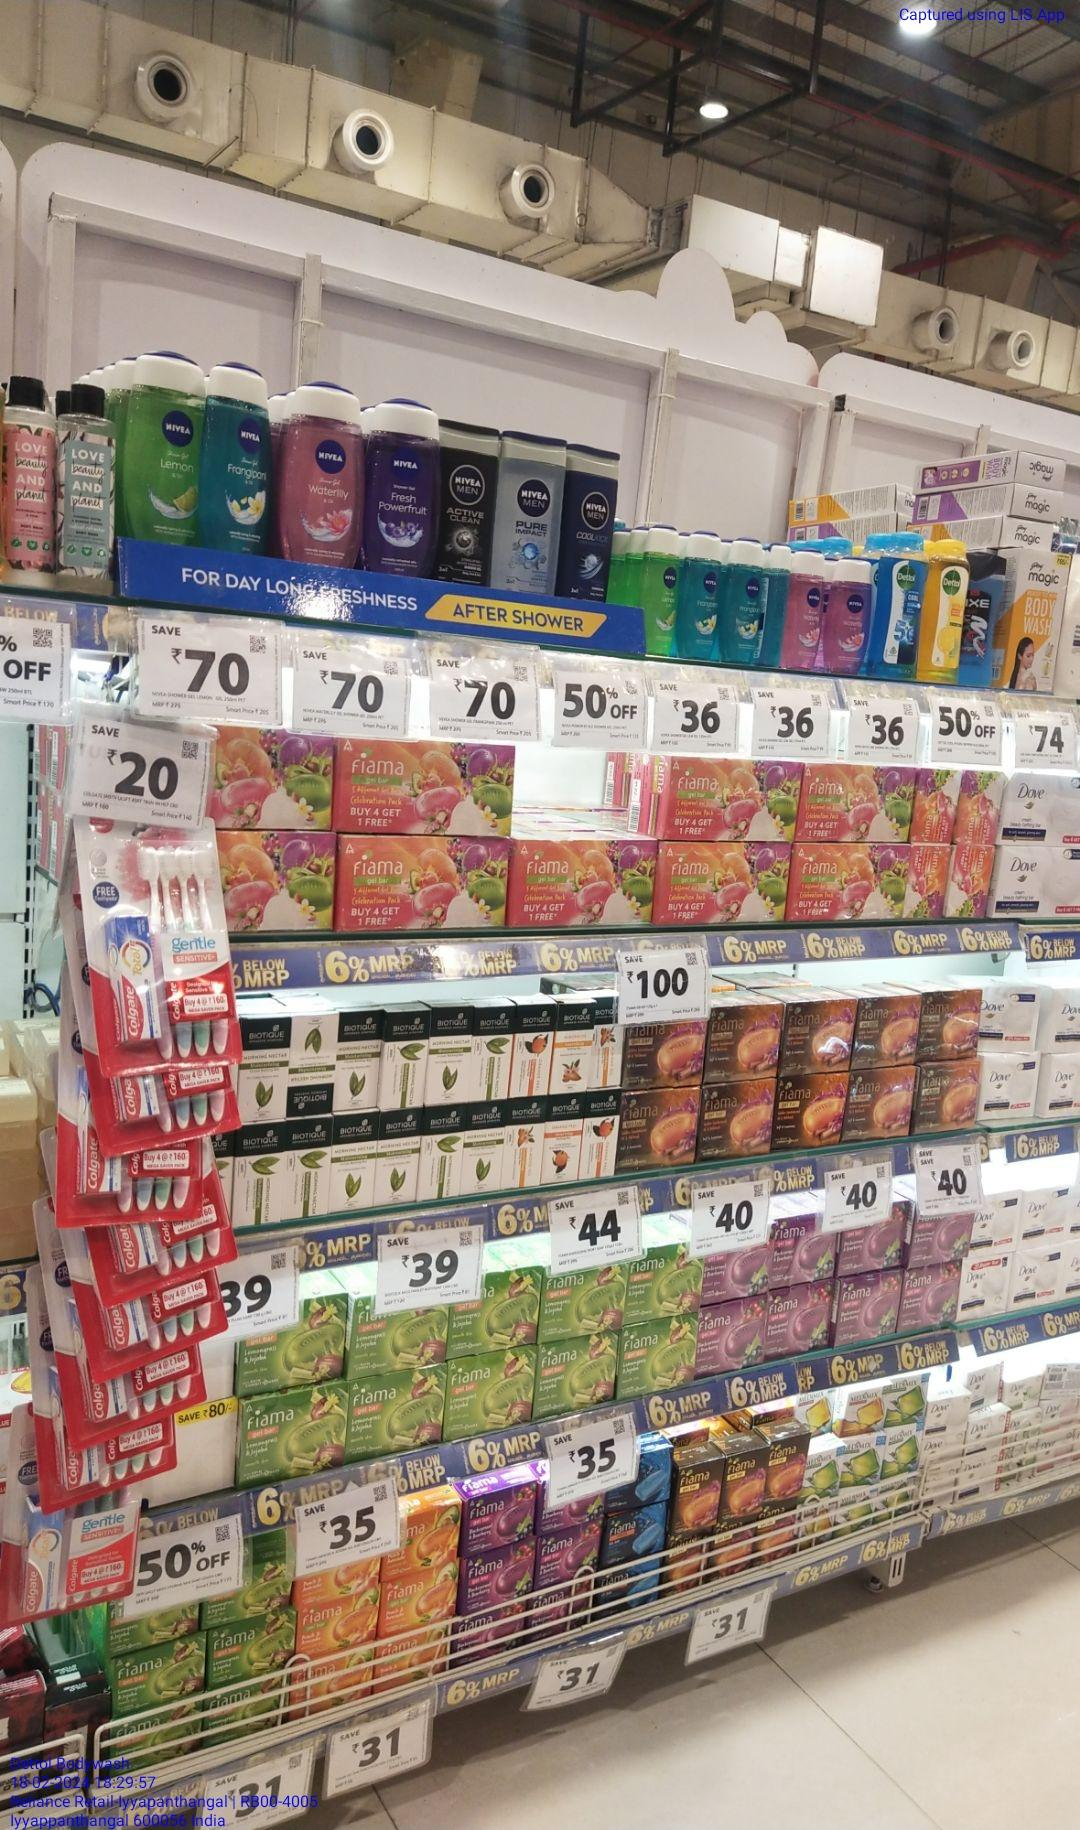Dettol_Bodywash_Cool: (872, 532, 922, 681)
Dettol_Bodywash_Refresh: (926, 540, 966, 677)
Nivea_Shower_Gel_Frangipani_and_Oil_250ML: (203, 365, 273, 554)
Nivea_Shower_Gel_Fresh_Powerfruit_250ML: (363, 397, 440, 578)
Nivea_Shower_Gel_Lemon_and_Oil_250ML: (121, 350, 198, 546)
Nivea_Shower_Gel_Waterlily_and_Oil_250ML: (282, 380, 361, 567)
